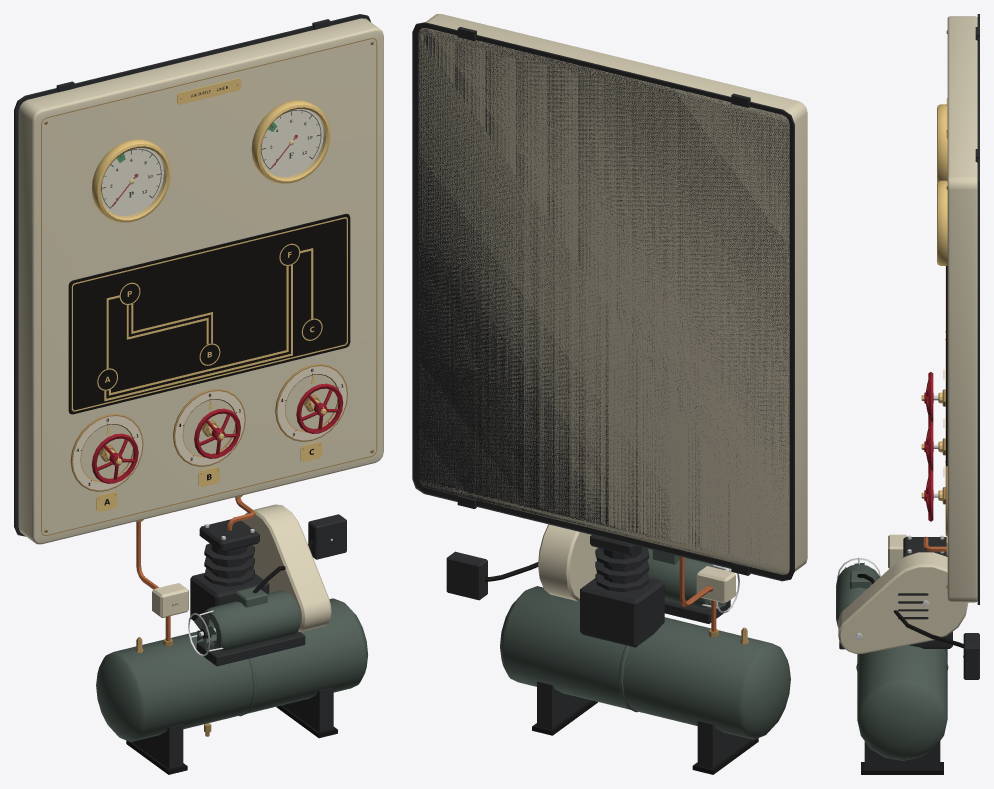
Rendered from compressor_panel.glb.
The picture shows the model from 3 angles, left to right: view 1: azimuth 30°, elevation 25°; view 2: azimuth 150°, elevation 25°; view 3: azimuth 270°, elevation 25°; orthographic projection. The views are drawn at different scales.
Parts seen in each view (by area): view 1: panel_body, compressor_tank, piping_plate, gauge_glass, gauge_p, gauge_f, compressor_pipes, valve_c_body, valve_a_body, valve_b_body, IA_valve_a, IA_valve_c (+1 smaller); view 2: panel_body, compressor_tank, compressor_pipes; view 3: compressor_tank, panel_body, compressor_pipes, gauge_f, gauge_p, piping_plate, IA_valve_c, IA_valve_b, IA_valve_a, valve_c_body.
Boxes of the visible parts, x1=… form: panel_body: x1=14, y1=14, x2=383, y2=544; compressor_tank: x1=96, y1=504, x2=367, y2=774; piping_plate: x1=68, y1=213, x2=350, y2=414; gauge_glass: x1=101, y1=109, x2=325, y2=217; gauge_p: x1=91, y1=139, x2=170, y2=222; gauge_f: x1=251, y1=100, x2=330, y2=183; compressor_pipes: x1=136, y1=495, x2=346, y2=646; valve_c_body: x1=275, y1=364, x2=347, y2=462; valve_a_body: x1=70, y1=413, x2=143, y2=512; valve_b_body: x1=173, y1=388, x2=245, y2=487; IA_valve_a: x1=91, y1=433, x2=138, y2=483; IA_valve_c: x1=296, y1=383, x2=343, y2=433; panel_body: x1=412, y1=14, x2=807, y2=581; compressor_tank: x1=500, y1=524, x2=790, y2=774; compressor_pipes: x1=446, y1=551, x2=735, y2=637; compressor_tank: x1=836, y1=535, x2=968, y2=774; panel_body: x1=946, y1=14, x2=979, y2=604; compressor_pipes: x1=857, y1=534, x2=979, y2=679; gauge_f: x1=937, y1=180, x2=947, y2=265; gauge_p: x1=937, y1=104, x2=947, y2=183; piping_plate: x1=945, y1=265, x2=947, y2=466; IA_valve_c: x1=921, y1=469, x2=933, y2=521; IA_valve_b: x1=921, y1=420, x2=933, y2=470; IA_valve_a: x1=921, y1=372, x2=933, y2=421; valve_c_body: x1=933, y1=463, x2=947, y2=555.
Size of the model in its own units: 1.12 by 1.97 by 0.399.
